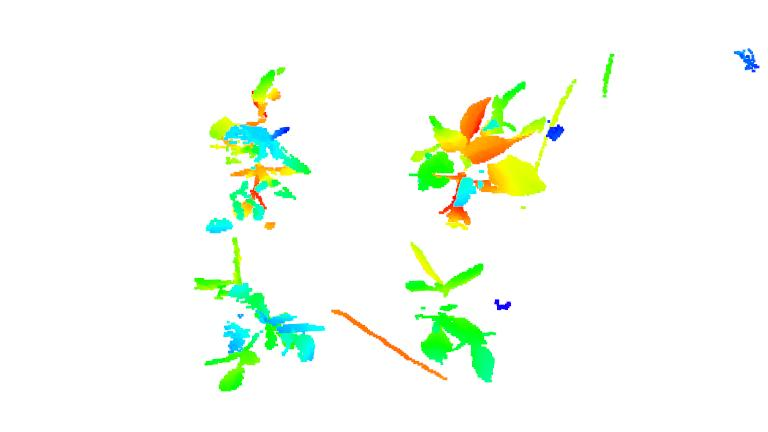mungbean: (409, 78, 547, 233), (199, 64, 316, 237), (194, 238, 320, 392), (399, 239, 500, 382)
